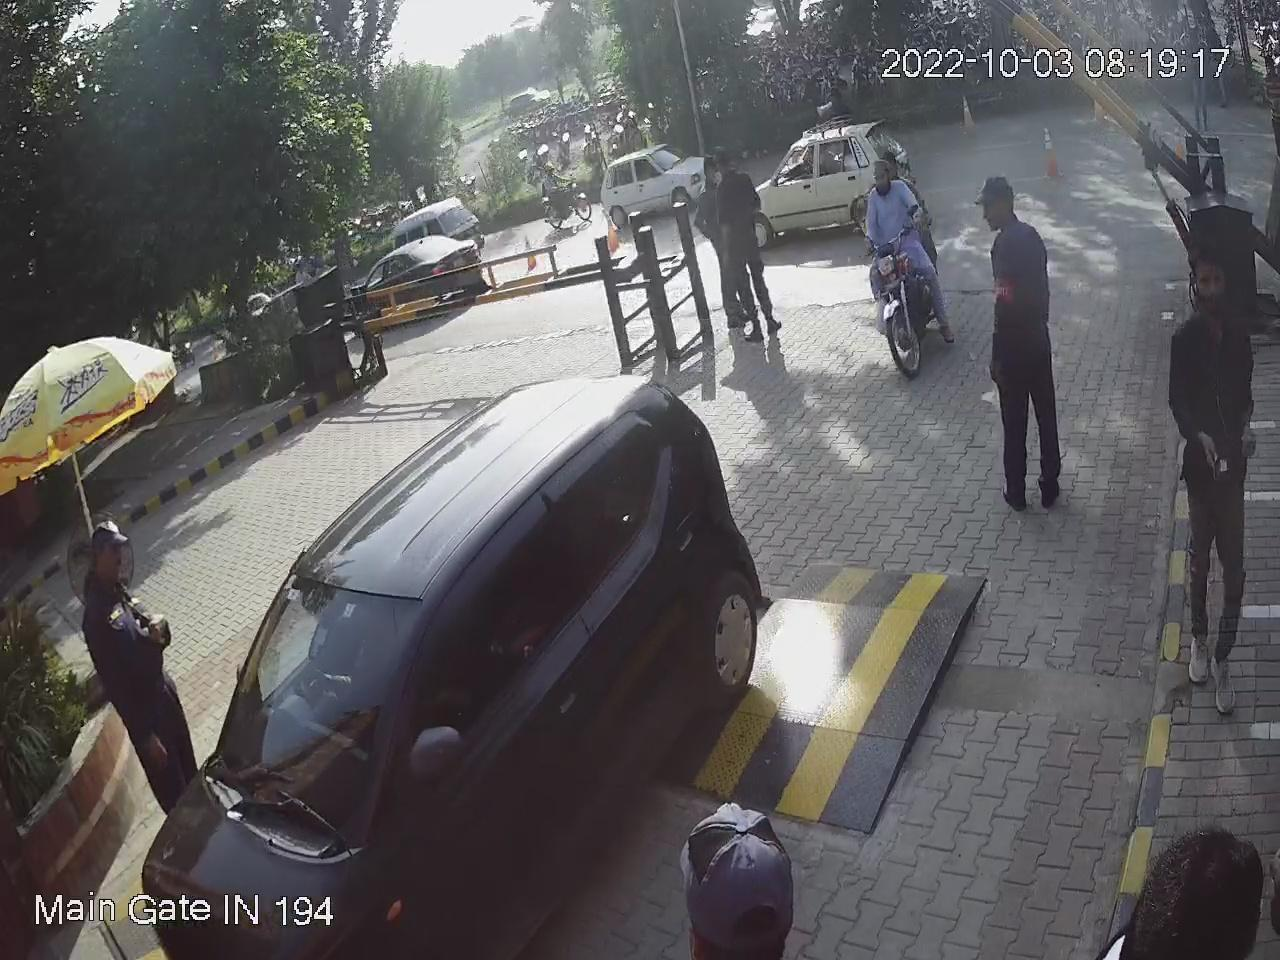windshield: (204, 573, 435, 847)
